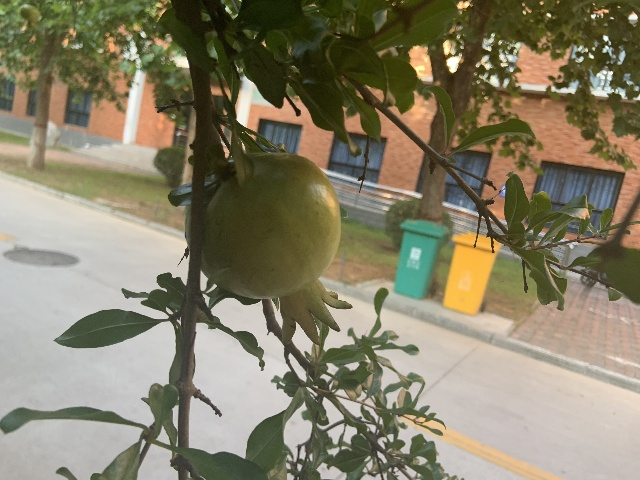mid-growth: (184, 152, 352, 344)
